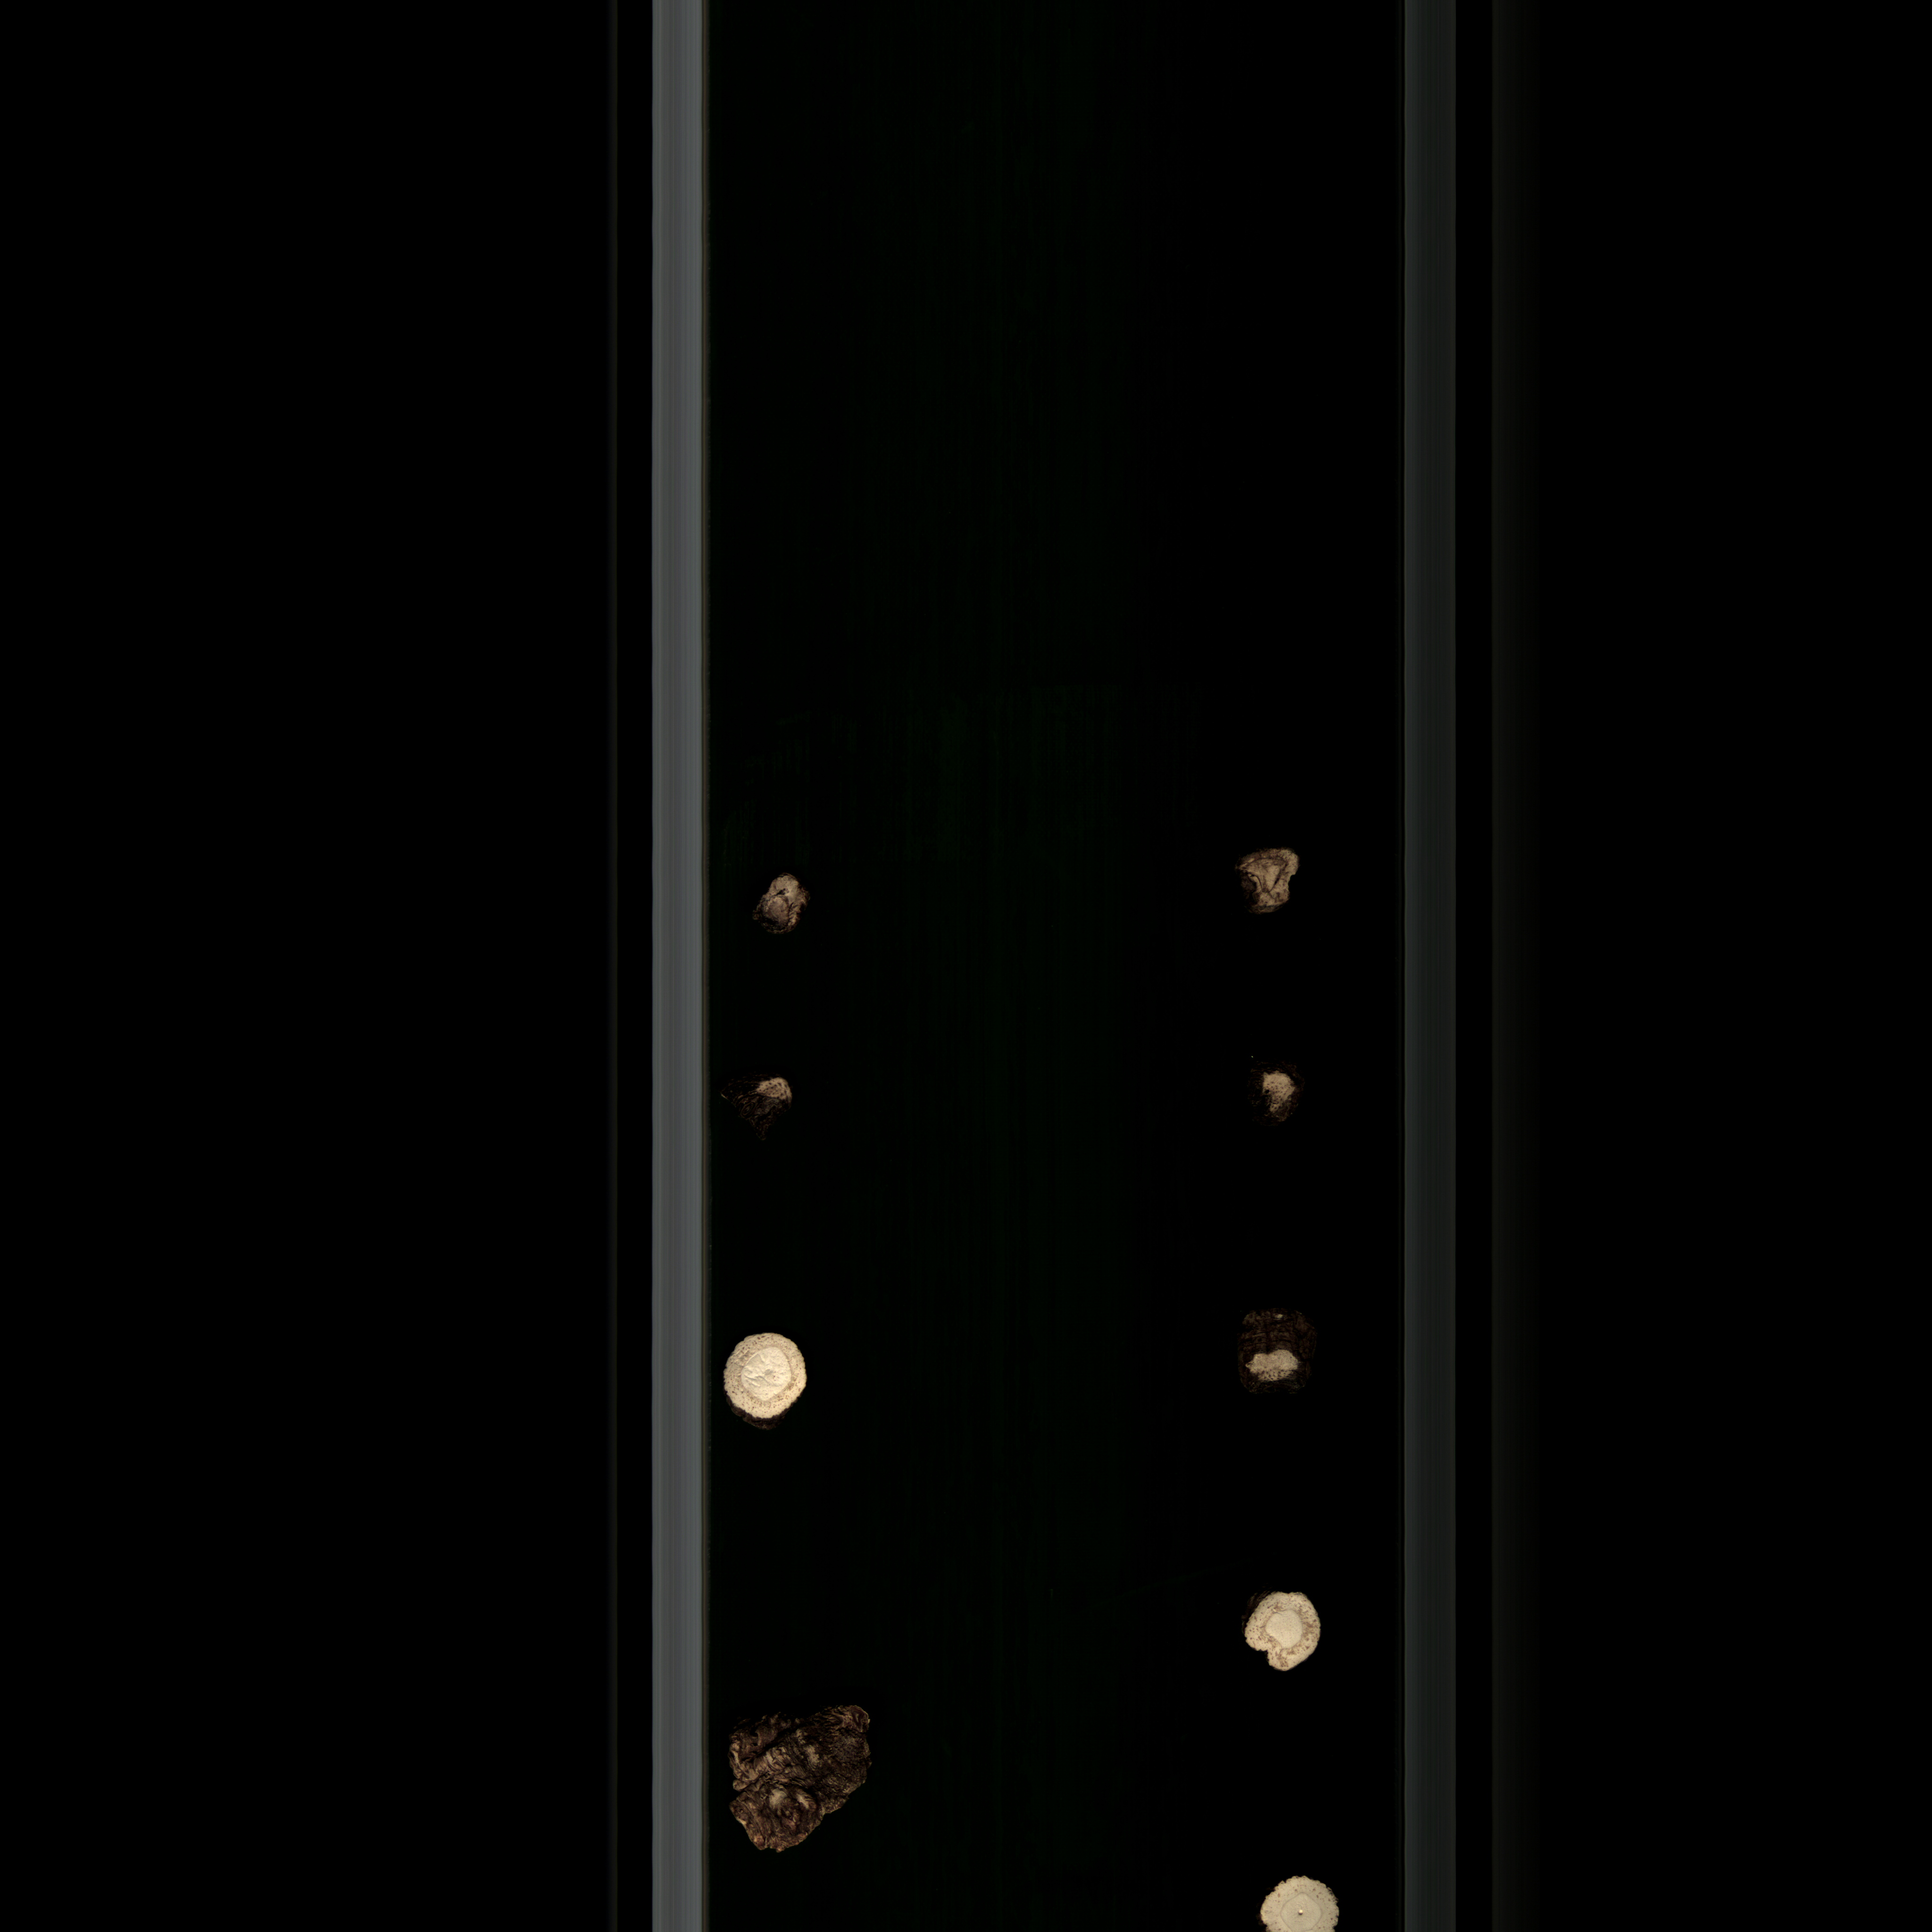bark: (711, 1681, 890, 1870), (729, 862, 839, 964), (1219, 1295, 1306, 1403), (1210, 833, 1311, 922), (1223, 1054, 1311, 1141), (729, 1065, 812, 1148)
